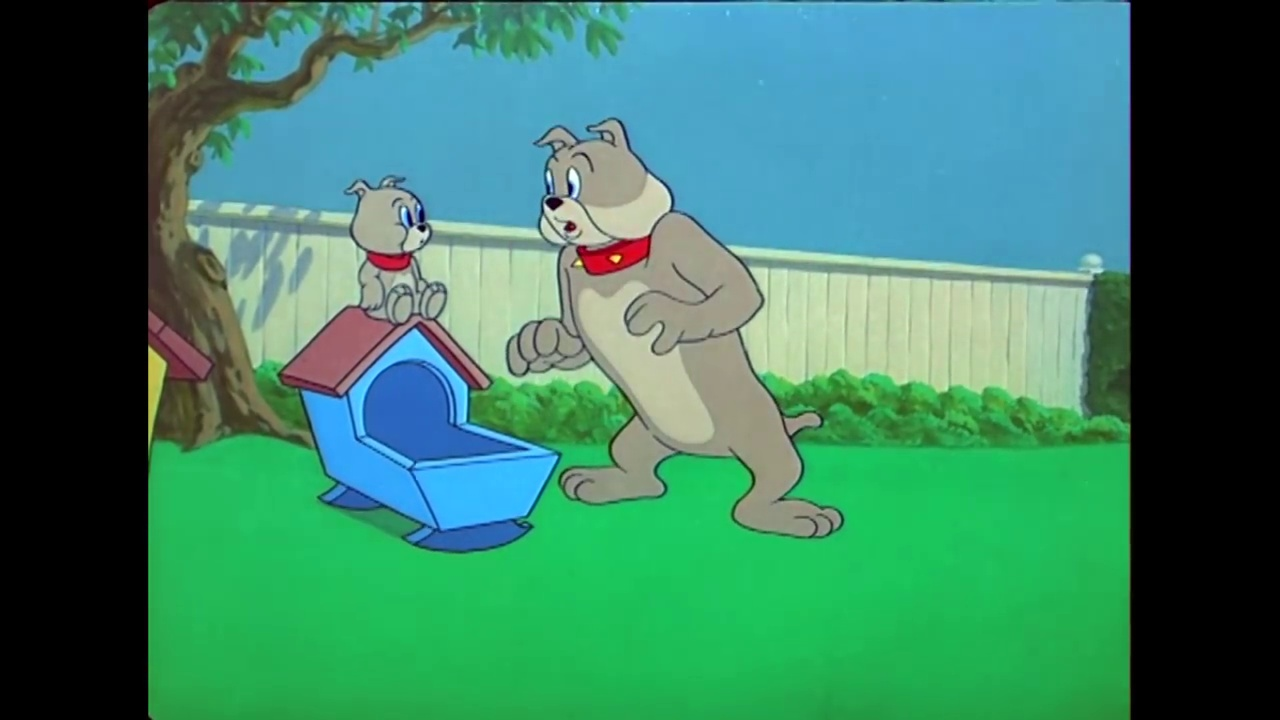spike: (524, 113, 688, 283)
